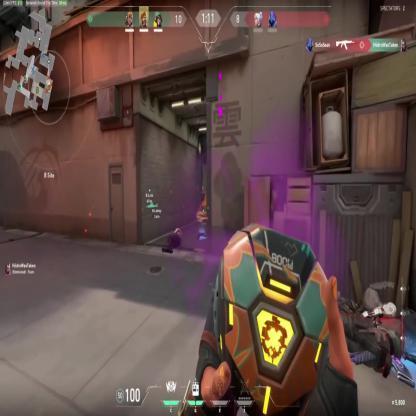enemy: (200, 184, 205, 215)
enemy_head: (202, 184, 204, 192)
